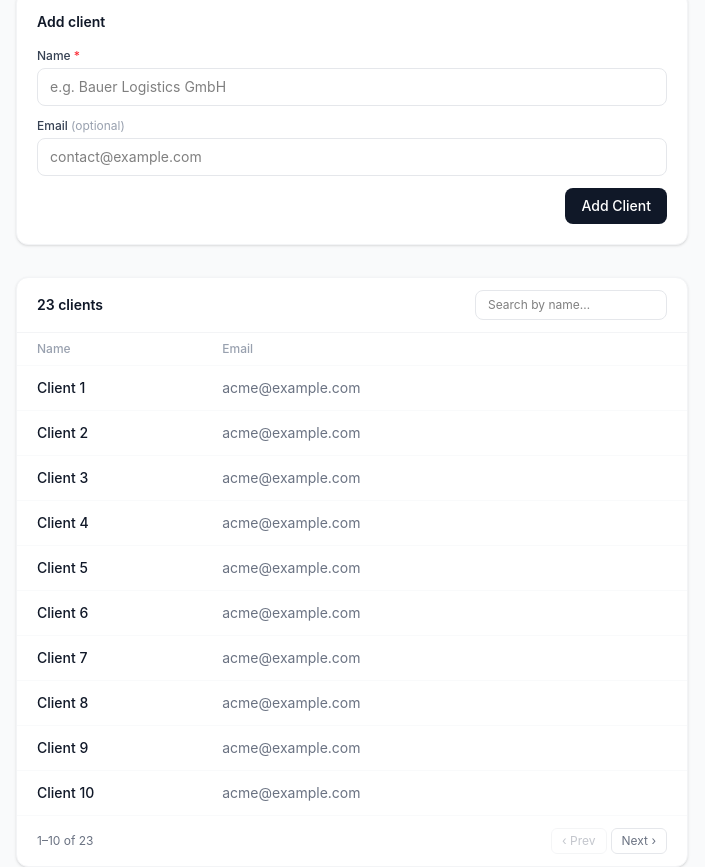
Test: ClientsPage › shows 10 clients per page and fetches the next 10 on Next
(page scrolled)
Expected: the text "1–10 of 23" is shown, left=37, top=833, right=94, bottom=849
What coordinates should you click on to do the following:
click the button "Next ›"
I would click on:
 (639, 841)
Its box is left=610, top=828, right=667, bottom=854.
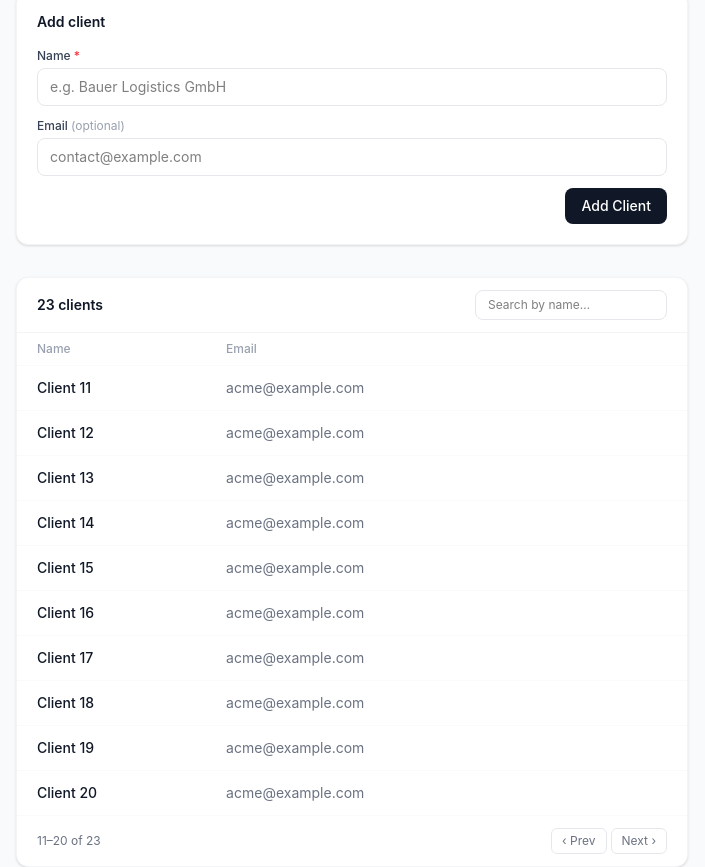
Expected: the text "Client 11" is shown, left=17, top=366, right=206, bottom=410
Expected: the text "11–20 of 23" is shown, left=37, top=833, right=101, bottom=849
